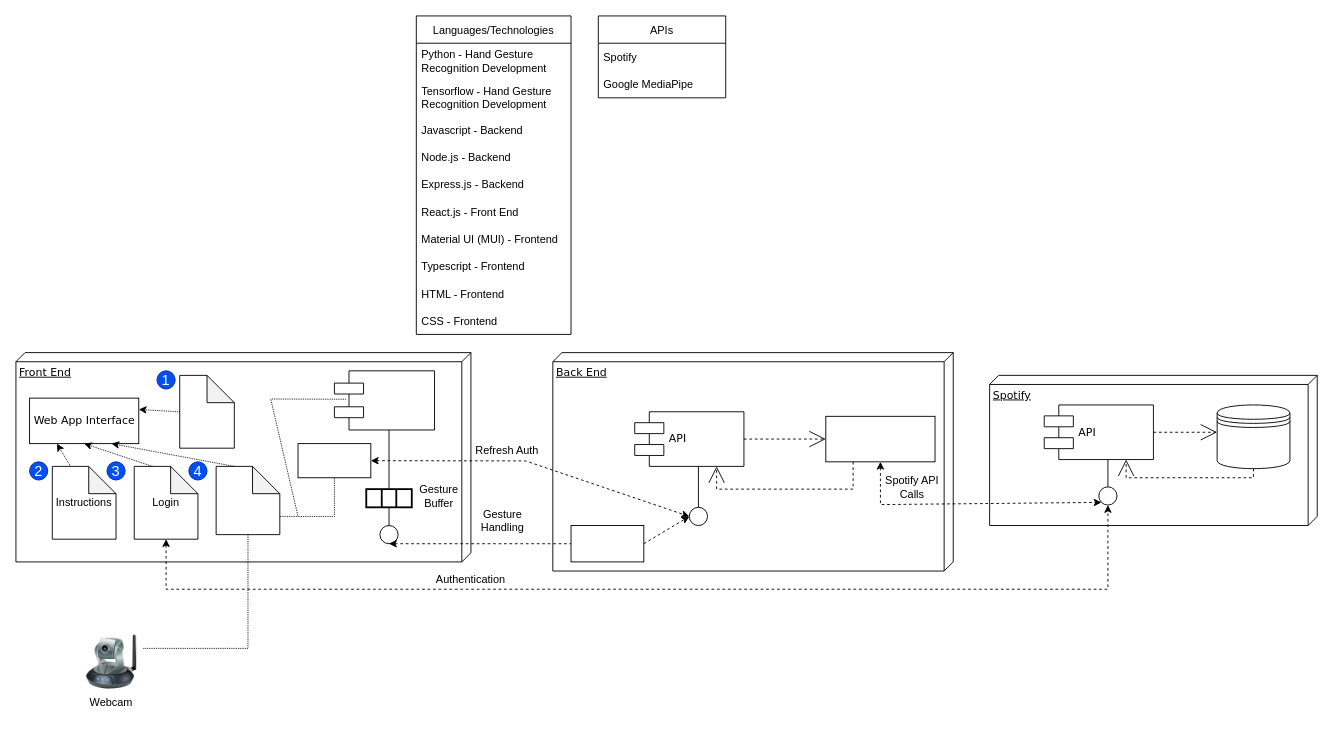
Image size: 1333x733. Some labels were removed from this diagram. Each missing label, with the centre of its shape:
"Authentication Refresher" goes at pixel 334 460.
"Hand Gesture Recognizer" goes at pixel 384 400.
"Home" goes at pixel 206 411.
"Media Player" goes at pixel 247 500.
"Music Information & Services" goes at pixel 1253 436.
"Rate Limiter" goes at pixel 607 543.
"Spotify Request Handler" goes at pixel 880 438.
